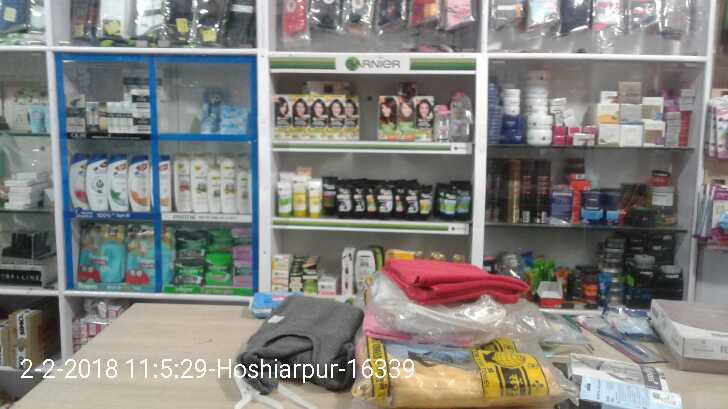venus: (220, 107, 248, 134), (204, 88, 220, 134)
